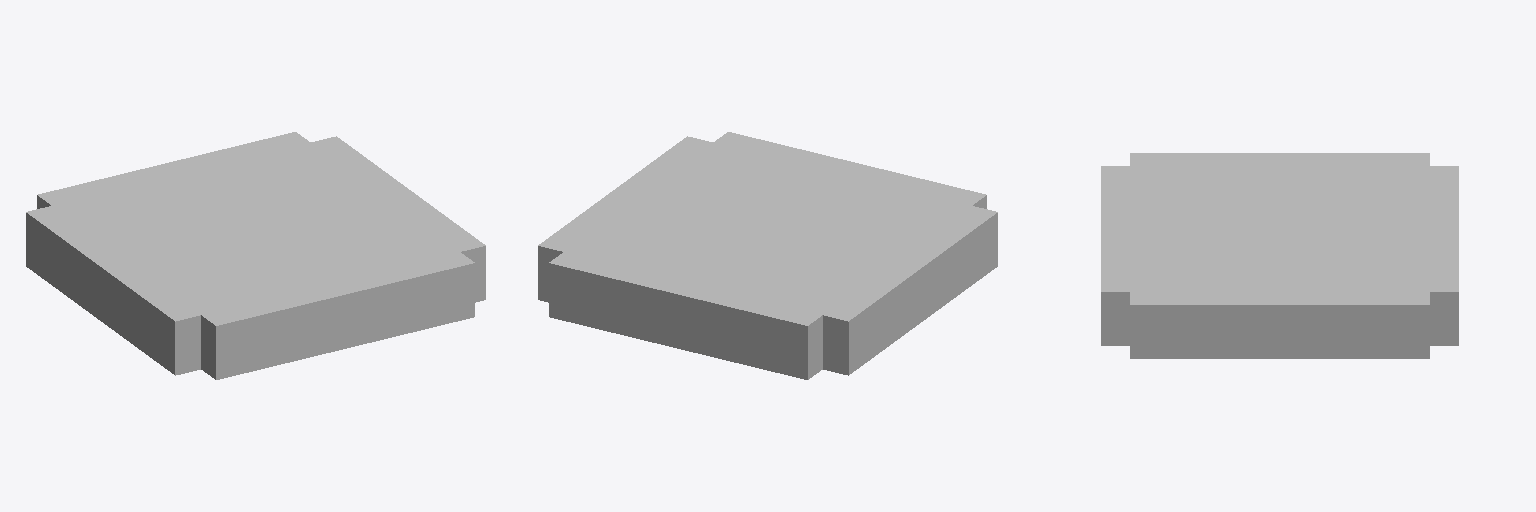
Rendered from cooking_baking_tray_fill.obj.
3 renders of one model, left to right at view 1: azimuth 30°, elevation 25°; view 2: azimuth 150°, elevation 25°; view 3: azimuth 270°, elevation 25°, orthographic.
Parts seen in each view (by area): view 1: node_0_0_0.004, node_0_0_0.005; view 2: node_0_0_0.004, node_0_0_0.005; view 3: node_0_0_0.005, node_0_0_0.004.
Part boxes in pixels (x1,y1,x2,y2): node_0_0_0.004: (26, 132, 485, 379); node_0_0_0.005: (53, 143, 459, 314); node_0_0_0.004: (538, 132, 997, 379); node_0_0_0.005: (564, 143, 970, 314); node_0_0_0.005: (1130, 166, 1429, 291); node_0_0_0.004: (1101, 153, 1458, 358).
Size of the model in its own units: 0.75 by 0.125 by 0.75.